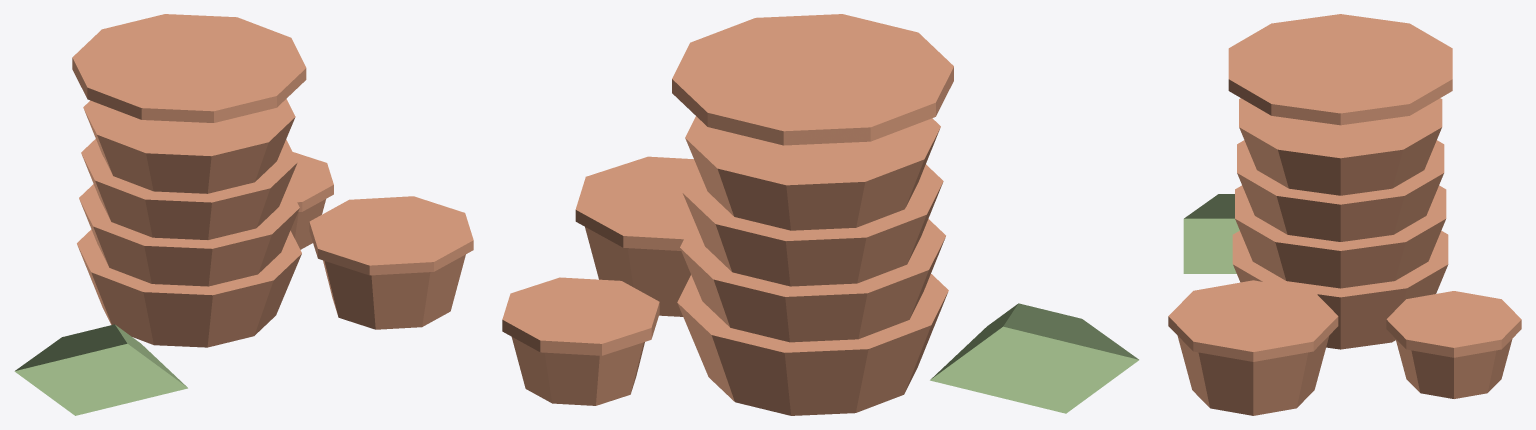
File: allotments-and-community-garden-upturned-pot-stack-273bbf3f__35176.glb
3 renders of one model, left to right at view 1: azimuth 30°, elevation 25°; view 2: azimuth 150°, elevation 25°; view 3: azimuth 270°, elevation 25°, orthographic. The views are drawn at different scales.
Parts seen in each view (by area): view 1: upturned-pot-stack-terracotta, upturned-pot-stack-grass; view 2: upturned-pot-stack-terracotta, upturned-pot-stack-grass; view 3: upturned-pot-stack-terracotta, upturned-pot-stack-grass.
Boxes of the visible parts, box(x1,y1,x2,y2) form: upturned-pot-stack-terracotta: box(72, 14, 473, 347); upturned-pot-stack-grass: box(14, 324, 187, 415); upturned-pot-stack-terracotta: box(502, 14, 953, 415); upturned-pot-stack-grass: box(930, 303, 1138, 413); upturned-pot-stack-terracotta: box(1168, 14, 1521, 415); upturned-pot-stack-grass: box(1183, 194, 1239, 273).
Bounding box in the file's own units: 1.12 × 0.63 × 0.81.
